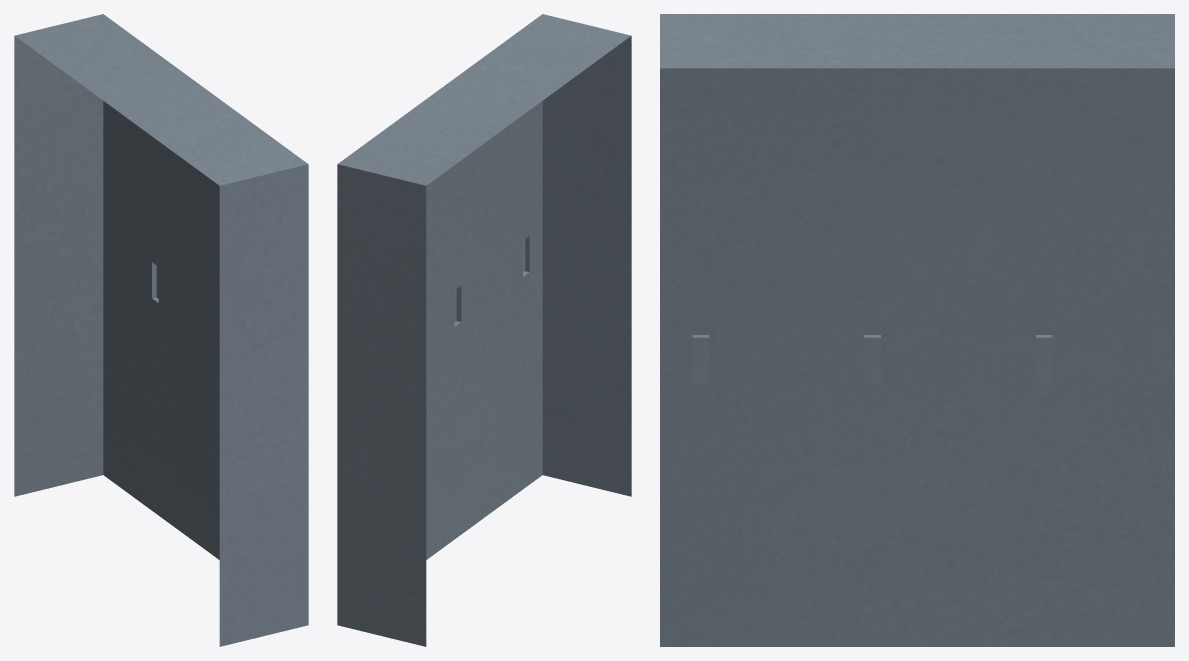
The model's file is locker.fbx.
The picture shows the model from 3 angles, left to right: view 1: azimuth 30°, elevation 25°; view 2: azimuth 150°, elevation 25°; view 3: azimuth 270°, elevation 25°; orthographic projection. The views are drawn at different scales.
Parts seen in each view (by area): view 1: locker; view 2: locker; view 3: locker.
Part boxes in pixels (x1=…): locker: x1=14, y1=14, x2=308, y2=646; locker: x1=337, y1=14, x2=631, y2=646; locker: x1=660, y1=14, x2=1174, y2=646.
Size of the model in its own units: 52.49 by 248 by 200.
Materials: 1 (1 with a texture image).
